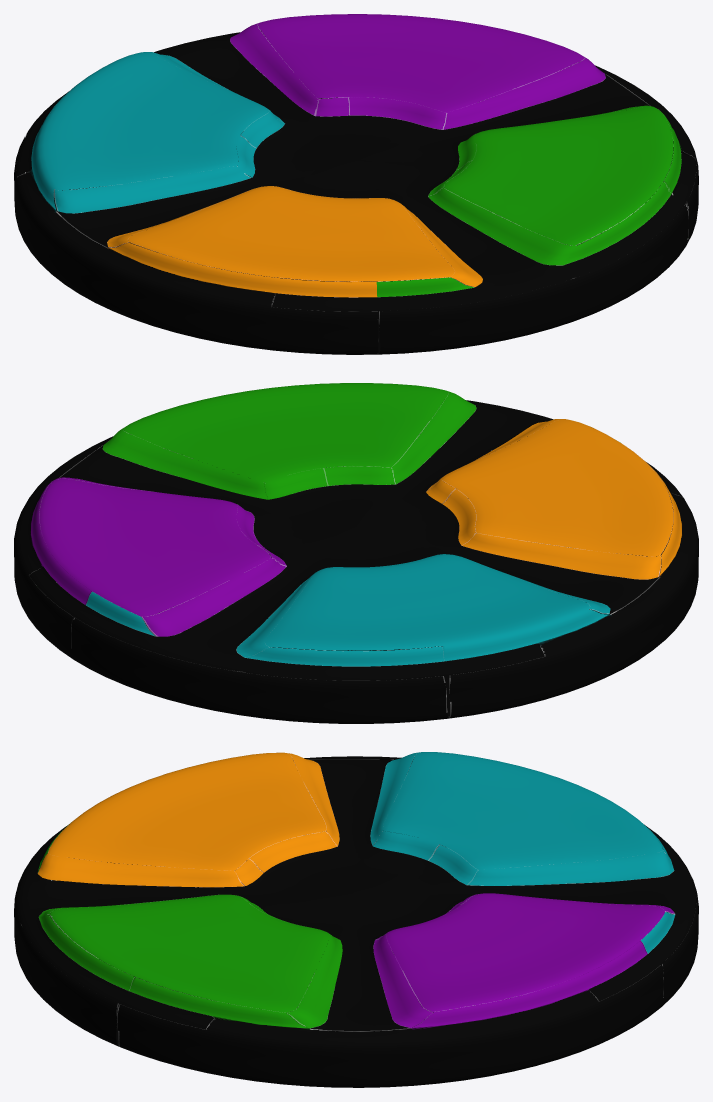
File: Andy Asks.fbx
3 renders of one model, top to bottom at view 1: azimuth 30°, elevation 25°; view 2: azimuth 150°, elevation 25°; view 3: azimuth 270°, elevation 25°, orthographic.
Visible parts, largest first — view 1: pSphere3; view 2: pSphere3; view 3: pSphere3.
Boxes of the visible parts, bbox=[...] form: pSphere3: bbox=[14, 14, 698, 354]; pSphere3: bbox=[14, 383, 698, 723]; pSphere3: bbox=[14, 752, 698, 1087].
Size of the model in its own units: 1.87 by 0.249 by 1.87.
1 material, 1 textured.
